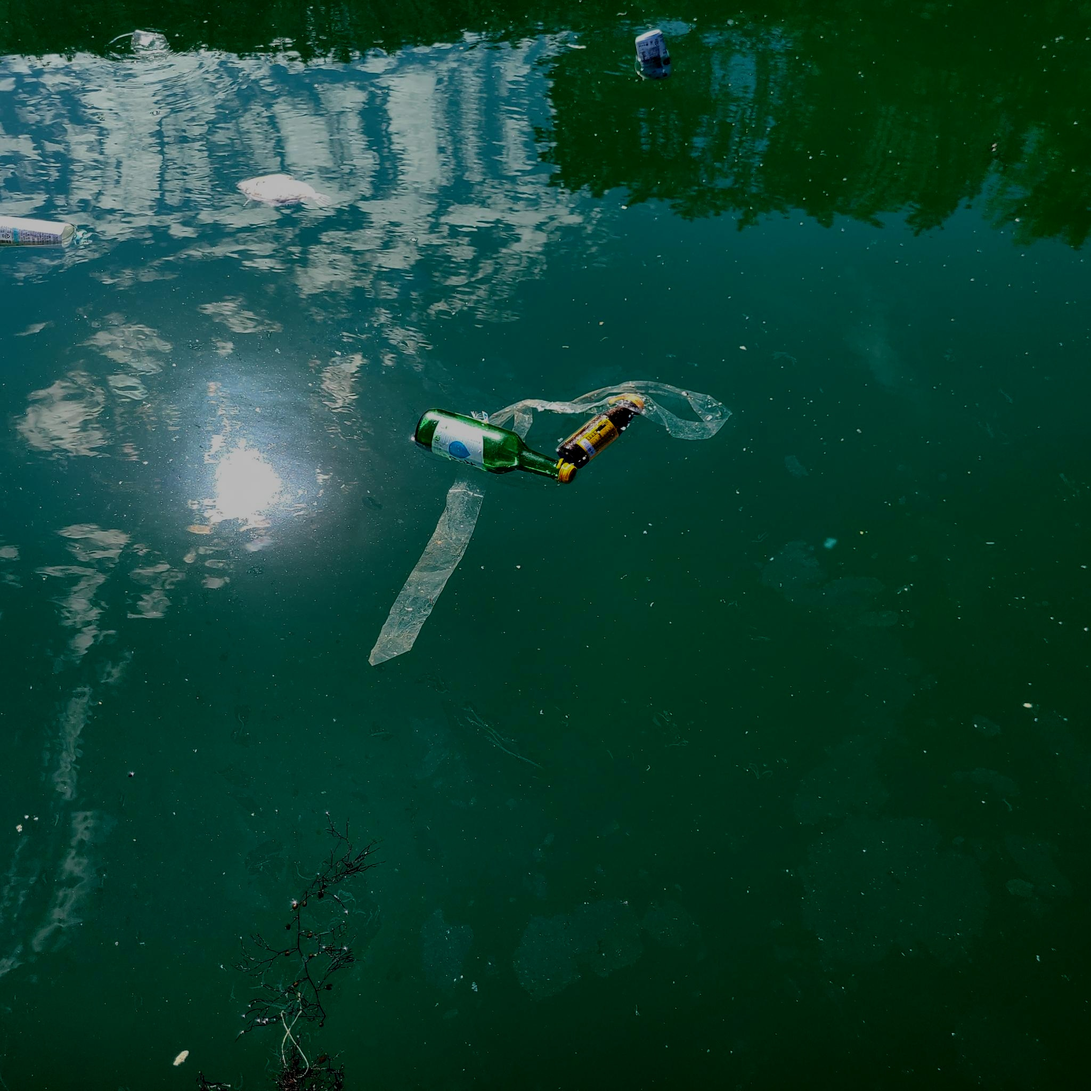sampah_terapung: (416, 409, 579, 485), (557, 394, 645, 469), (1, 216, 92, 250), (636, 30, 673, 81)
